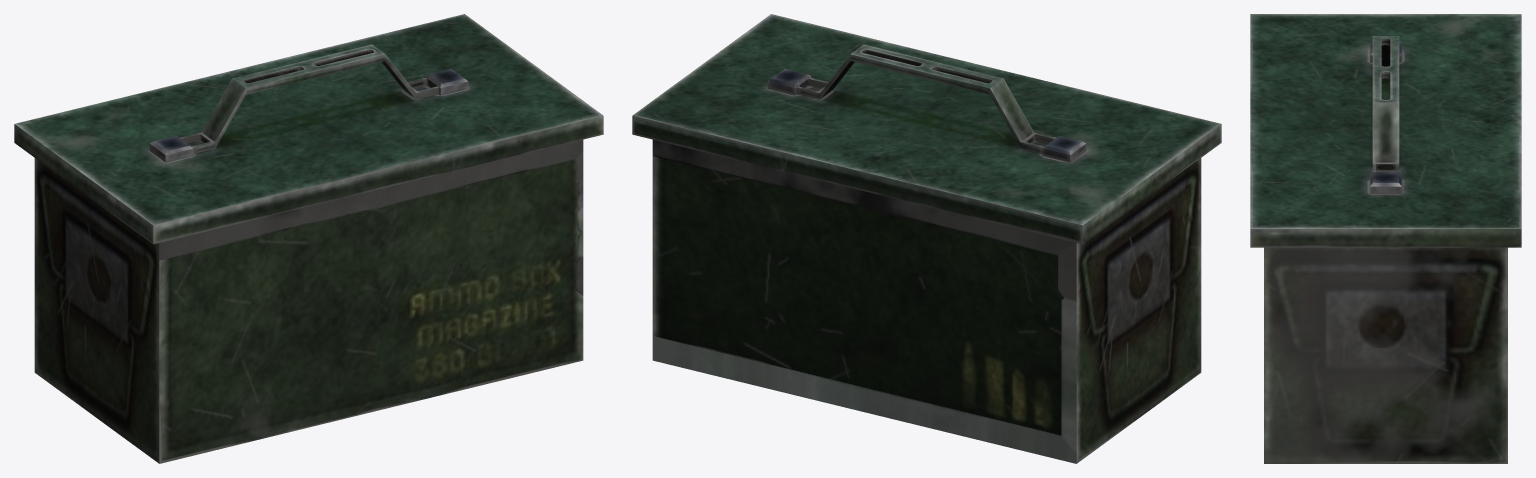
File: ammo_box.glb
3 renders of one model, left to right at view 1: azimuth 30°, elevation 25°; view 2: azimuth 150°, elevation 25°; view 3: azimuth 270°, elevation 25°, orthographic. The views are drawn at different scales.
Parts seen in each view (by area): view 1: ammobox_low, ammoboxup_low; view 2: ammobox_low, ammoboxup_low; view 3: ammoboxup_low, ammobox_low.
Boxes of the visible parts, x1,y1,x2,y2 form: ammobox_low: (34, 139, 583, 463); ammoboxup_low: (14, 14, 603, 244); ammobox_low: (652, 139, 1201, 463); ammoboxup_low: (632, 14, 1221, 244); ammoboxup_low: (1250, 14, 1521, 247); ammobox_low: (1264, 247, 1507, 463).
Bounding box in the file's own units: 0.2295 × 0.1462 × 0.1225.
Materials: 1 (1 with a texture image).
